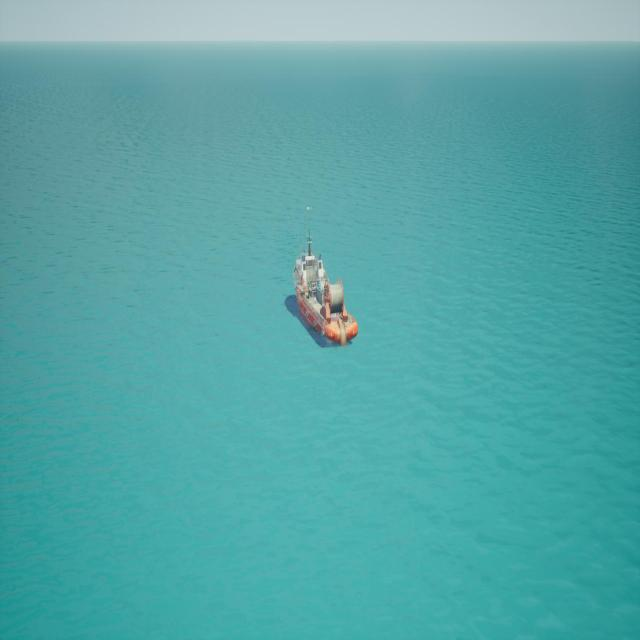tug boat: (294, 218, 338, 353)
